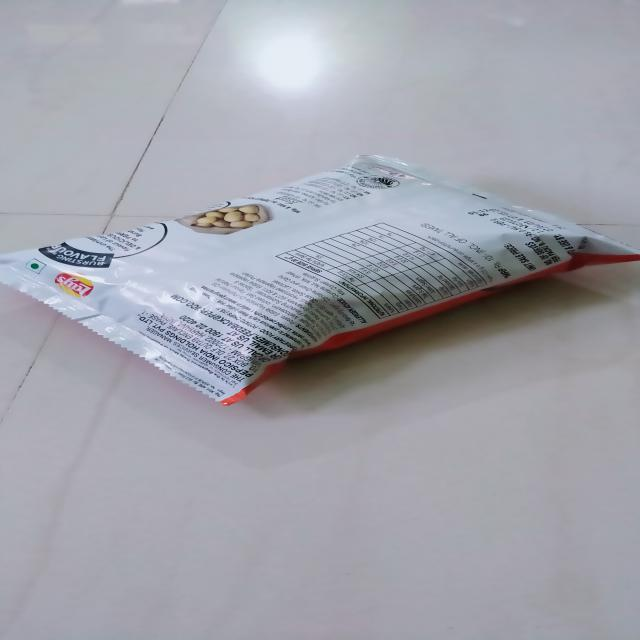lays: (0, 144, 640, 414)
